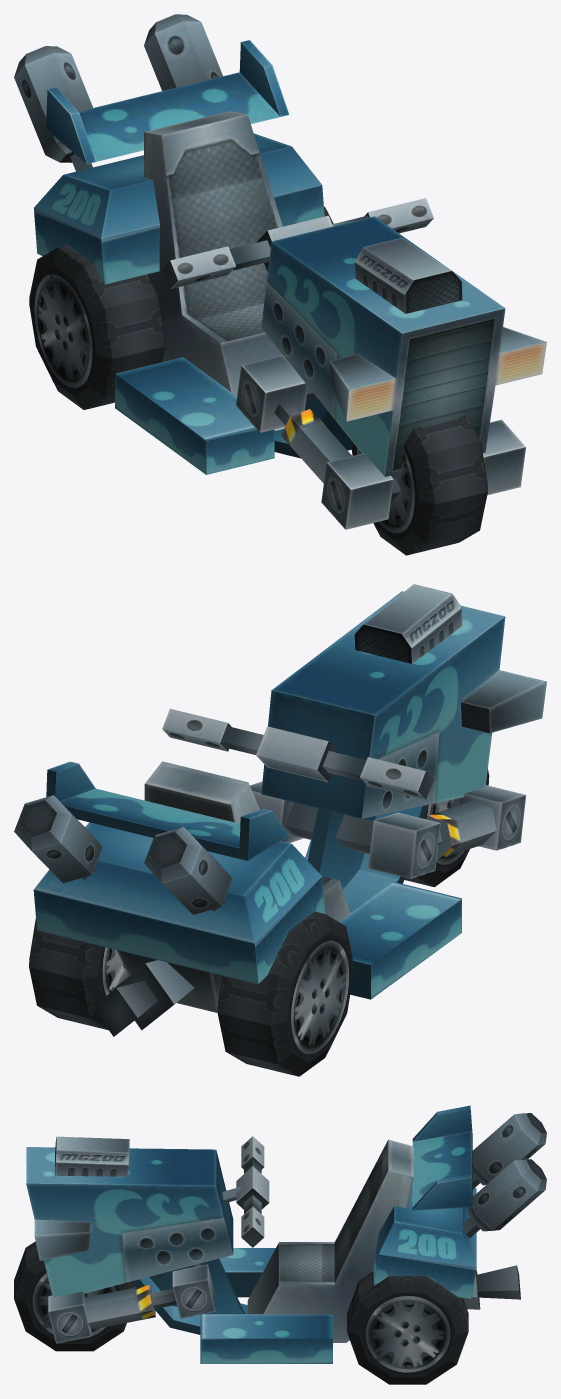
The model's file is Milo_AI.glb.
3 views of the same model, one above another, from view 1: azimuth 30°, elevation 25°; view 2: azimuth 150°, elevation 25°; view 3: azimuth 270°, elevation 25° (orthographic). The views are drawn at different scales.
Visible parts, largest first — view 1: kart_milo, right_wheel, front_wheel; view 2: kart_milo, right_wheel, left_wheel, front_wheel; view 3: kart_milo, left_wheel, front_wheel.
Part boxes in pixels (<box>): kart_milo: <box>14,14,546,529</box>; right_wheel: <box>29,245,165,409</box>; front_wheel: <box>351,415,487,555</box>; kart_milo: <box>14,584,546,1036</box>; right_wheel: <box>217,911,353,1076</box>; left_wheel: <box>29,918,128,1030</box>; front_wheel: <box>404,769,489,887</box>; kart_milo: <box>26,1105,546,1363</box>; left_wheel: <box>347,1271,468,1384</box>; front_wheel: <box>14,1241,135,1351</box>.
Size of the model in its own units: 1.89 by 1.98 by 4.66.
Materials: 1 (1 with a texture image).
